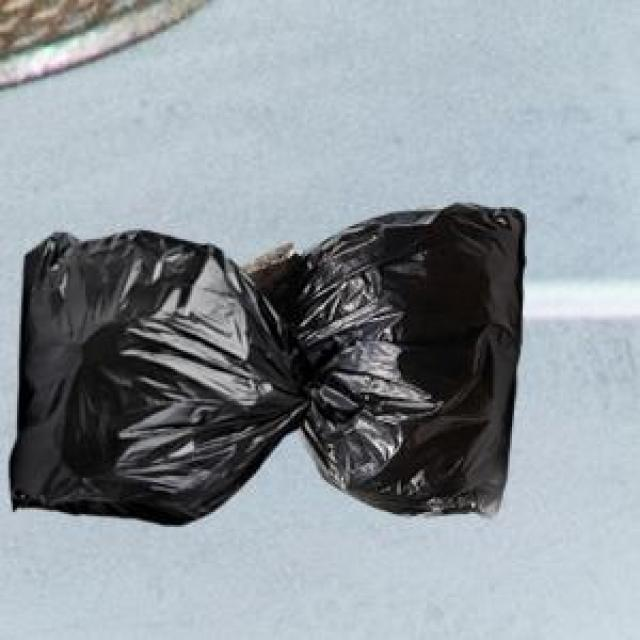waste: (10, 204, 524, 523)
